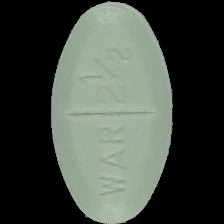63629-3177: (0, 0, 224, 224)
